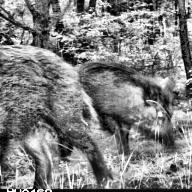boar: (79, 53, 182, 154)
